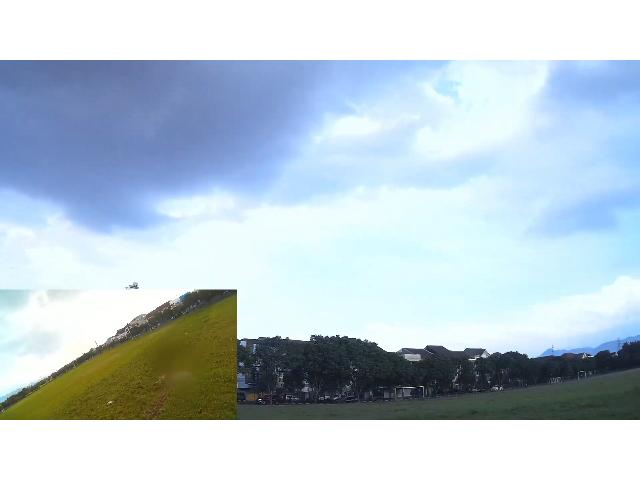Anti-Drone: (120, 279, 144, 297)
